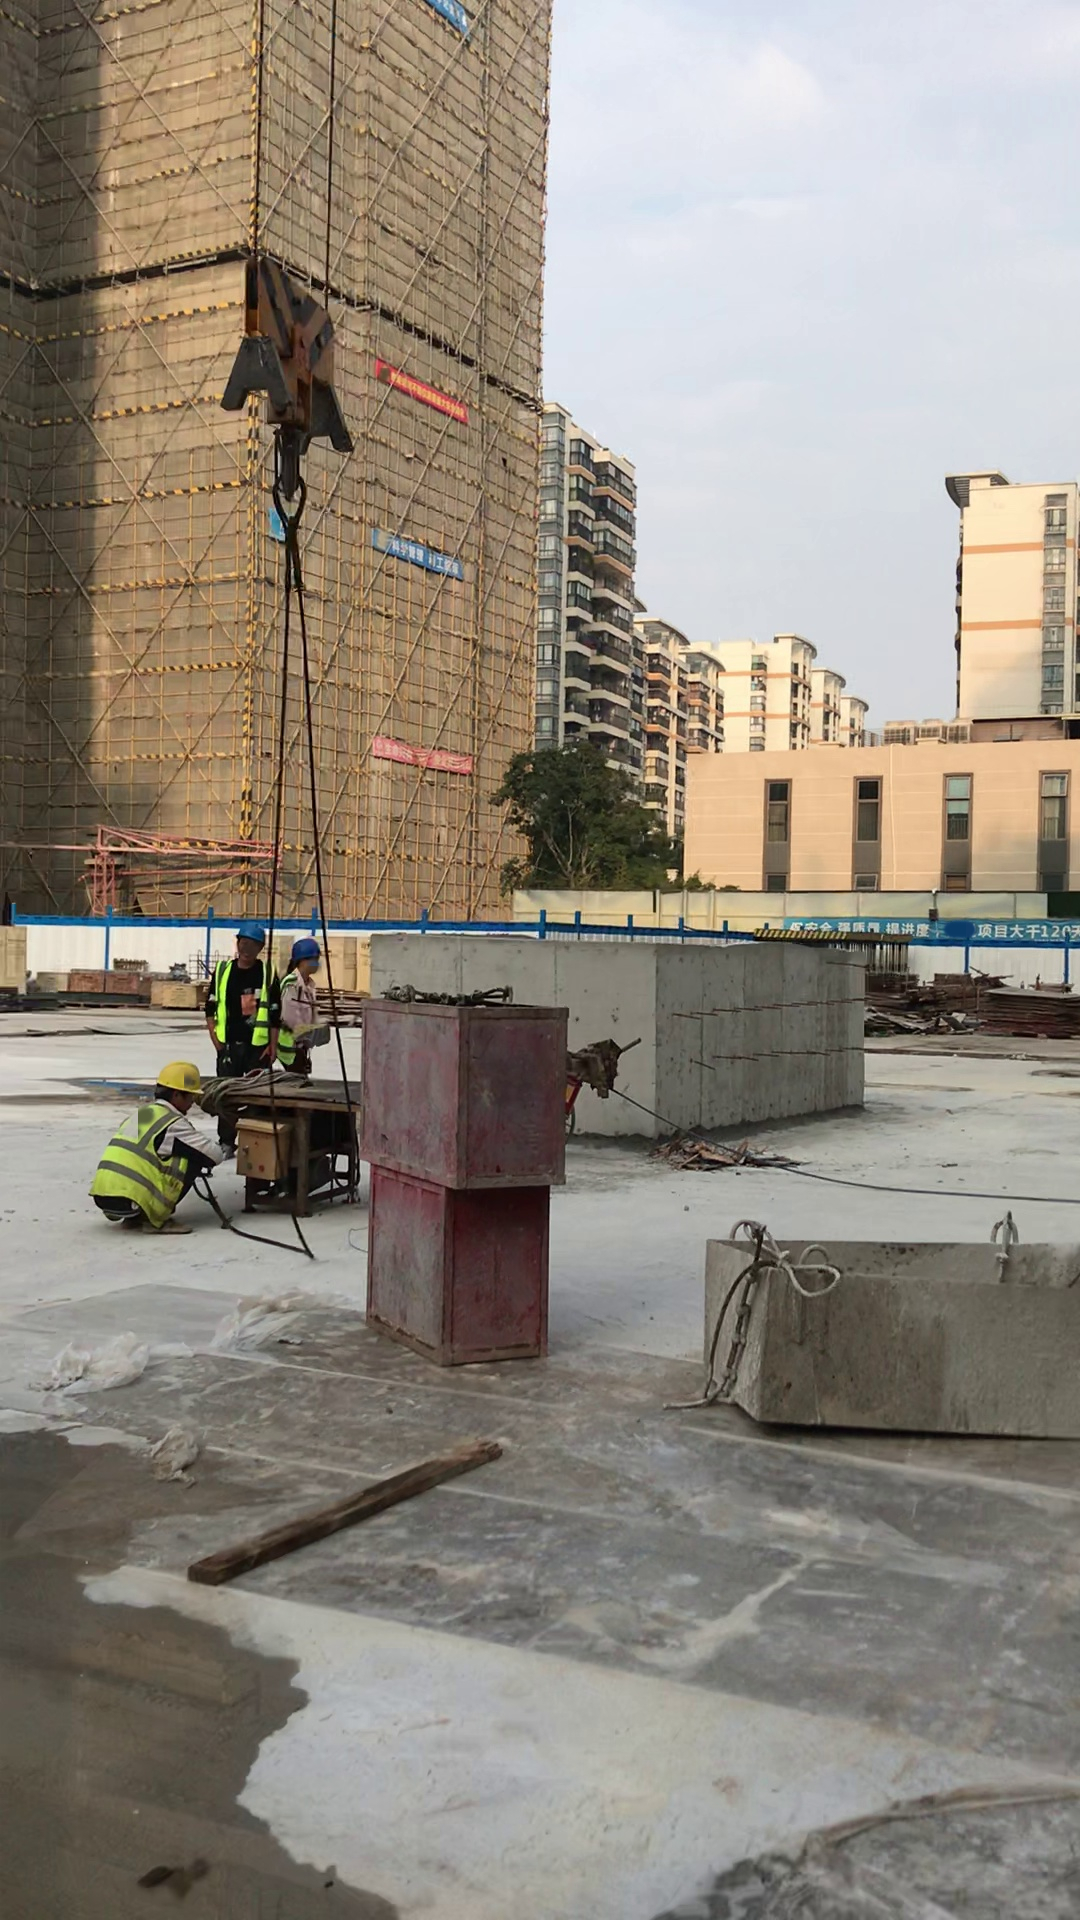board: (980, 981, 1080, 1047)
ebox: (217, 1120, 297, 1194)
helmet: (144, 1056, 206, 1098), (284, 934, 325, 962), (233, 915, 273, 944)
hook: (177, 235, 417, 567)
hopper: (686, 1218, 1080, 1452)
person: (84, 1040, 234, 1248), (201, 902, 274, 1098), (272, 919, 345, 1073)
slogan: (360, 351, 484, 445), (786, 914, 1080, 949), (365, 525, 491, 594), (364, 726, 480, 788), (417, 1, 485, 55), (258, 505, 291, 560)
vest: (91, 1098, 196, 1227), (205, 955, 275, 1048)
